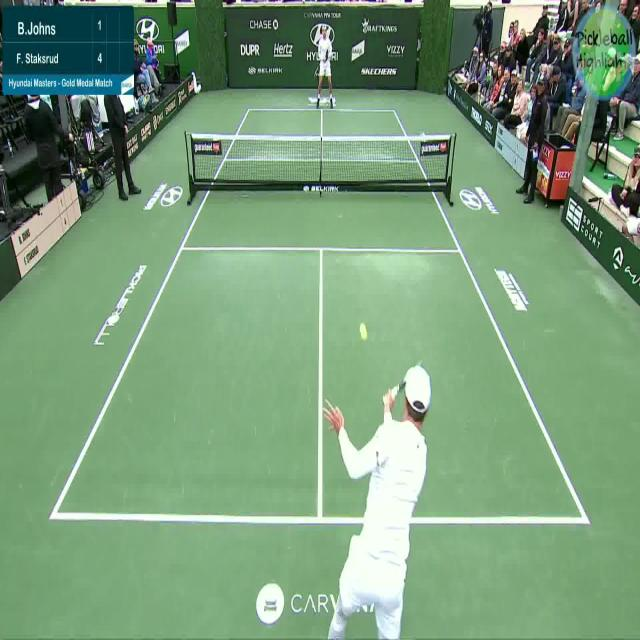Court: (52, 108, 592, 520)
ball: (355, 312, 371, 346)
